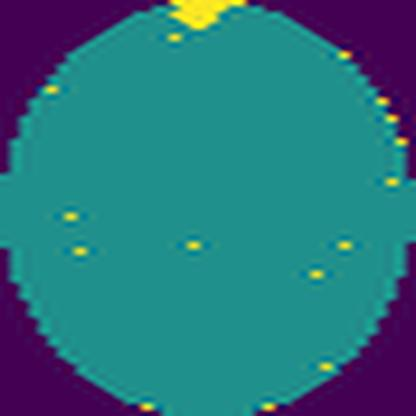Edge-Loc: (164, 0, 250, 28)
